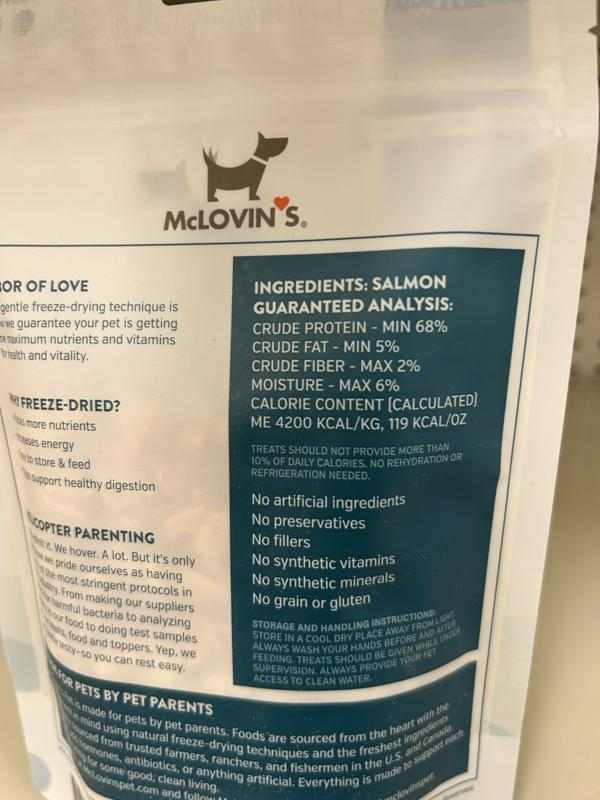ingredients: (249, 272, 459, 295)
